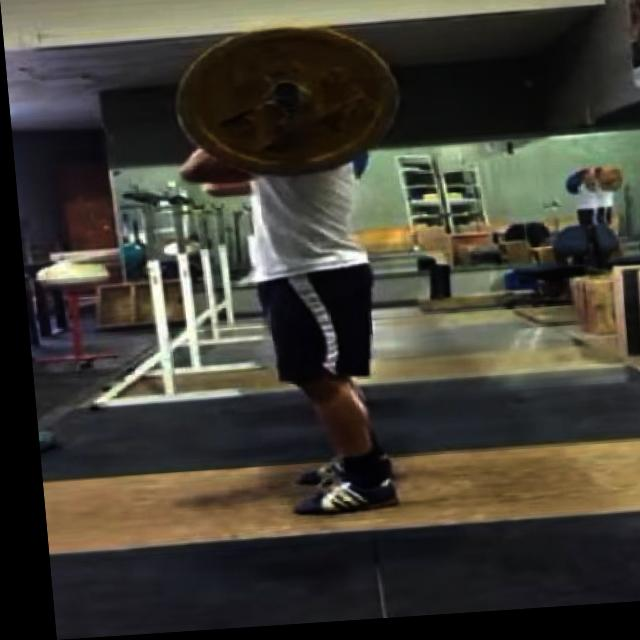barbell: (167, 19, 402, 189)
